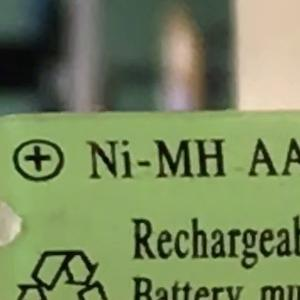keyword: (77, 129, 235, 189)
